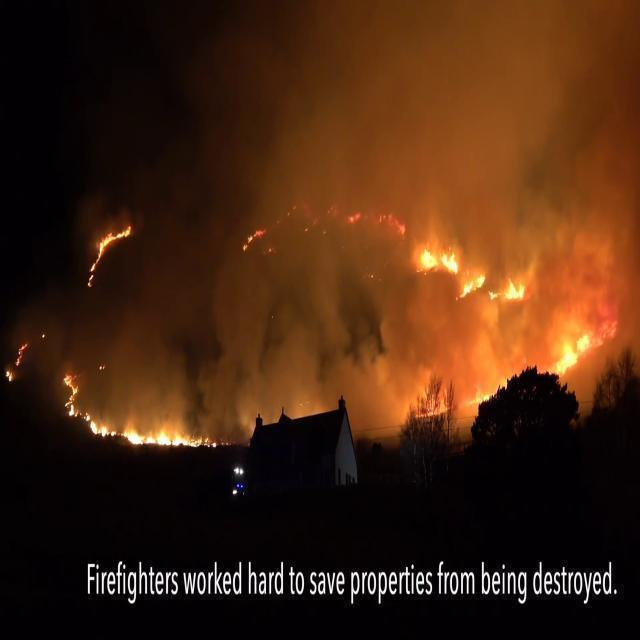Fire: (87, 419, 205, 451), (552, 330, 595, 379), (420, 239, 457, 278), (493, 279, 527, 302)
Smoke: (312, 0, 640, 163), (247, 256, 401, 387)
